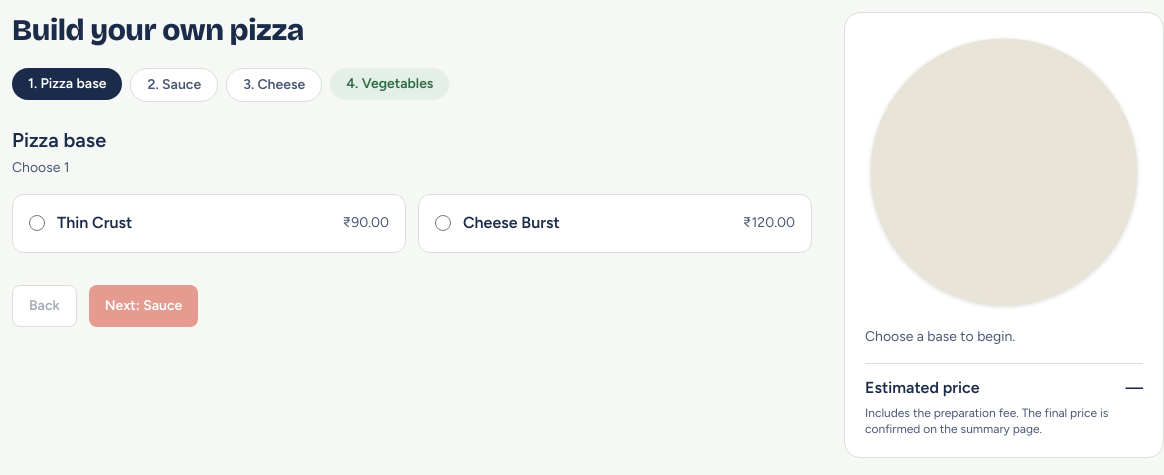
Test case: pizza builder › estimates the price from the fee and chosen options
Click the radio button labelled "Cheese Burst ₹120.00" at (443, 223), box [435,215,451,231]
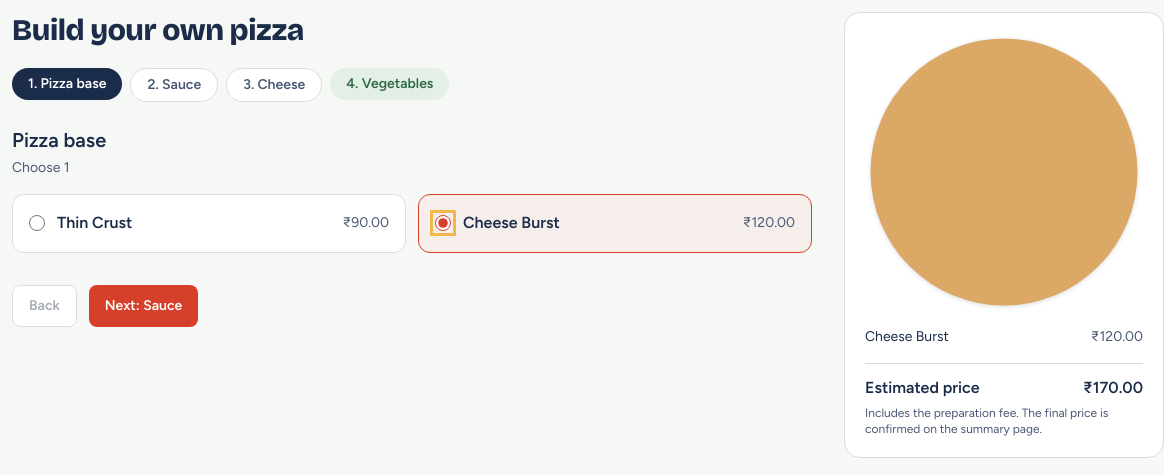
Result: the text "₹170.00" is shown at [1083,376,1143,401]
